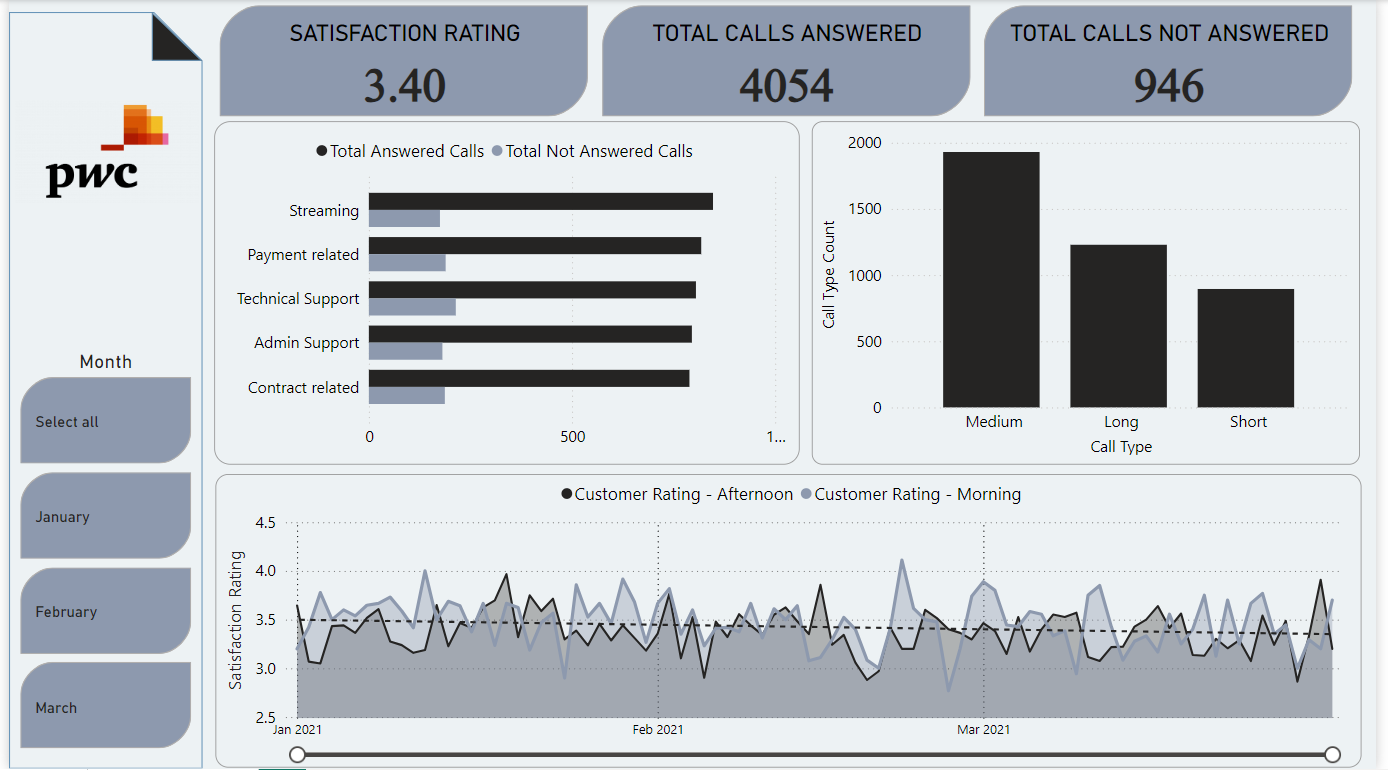

The page's visual inventory and layout, read from the dashboard file:
{"tool":"powerbi","page":{"name":"Call Overview","canvas":[1280,720],"ordinal":0},"visuals":[{"type":"shape","box":[0,11.4,181.3,708.7],"z":0},{"type":"shape","box":[133.9,11.4,47.4,45.7],"z":1000},{"type":"cardVisual","fields":{"Data":["Call Center Data.Overall Customer Satisfaction","Call Center Data.Total Answered Calls","Call Center Data.Total Not Answered Calls"]},"box":[192.7,0,1072.9,114.3],"z":2000},{"type":"clusteredBarChart","fields":{"Category":["Call Center Data.Topic"],"Y":["Call Center Data.Total Answered Calls","Call Center Data.Total Not Answered Calls"]},"box":[192.3,113.8,548.5,322],"z":3000},{"type":"columnChart","fields":{"Category":["Call Center Data.Call Type"],"Y":["Call Center Data.Total Calls"]},"box":[752.2,113.8,513.2,322],"z":4000},{"type":"areaChart","fields":{"Y":["Call Center Data.Customer Rating Afternoon","Call Center Data.Customer Rating Morning"],"Category":["Call Center Data.Call Date.Variation.Date Hierarchy.Year"]},"box":[193.5,443.8,1073.1,275.4],"z":5000},{"type":"advancedSlicerVisual","fields":{"Values":["Call Center Data.Month"]},"box":[5.7,327.6,170.1,378.2],"z":6000},{"type":"image","box":[1.2,48.8,181.2,186.2],"z":7000}]}

Visuals, with their boxes in screenshot pixels (x1, y1, x2, y2), scaled from the page's 1280x720 canvas onto the 1388x770 screenshot:
shape: <region>0, 12, 197, 769</region>
shape: <region>145, 12, 197, 61</region>
cardVisual - Call Center Data.Overall Customer Satisfaction x Call Center Data.Total Answered Calls: <region>209, 0, 1372, 122</region>
clusteredBarChart - Call Center Data.Topic x Call Center Data.Total Answered Calls: <region>209, 122, 803, 466</region>
columnChart - Call Center Data.Call Type x Call Center Data.Total Calls: <region>816, 122, 1372, 466</region>
areaChart - Call Center Data.Customer Rating Afternoon x Call Center Data.Customer Rating Morning: <region>210, 475, 1373, 769</region>
advancedSlicerVisual - Call Center Data.Month: <region>6, 350, 191, 755</region>
image: <region>1, 52, 198, 251</region>
